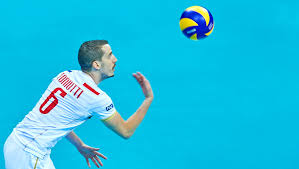ball: (178, 5, 214, 41)
